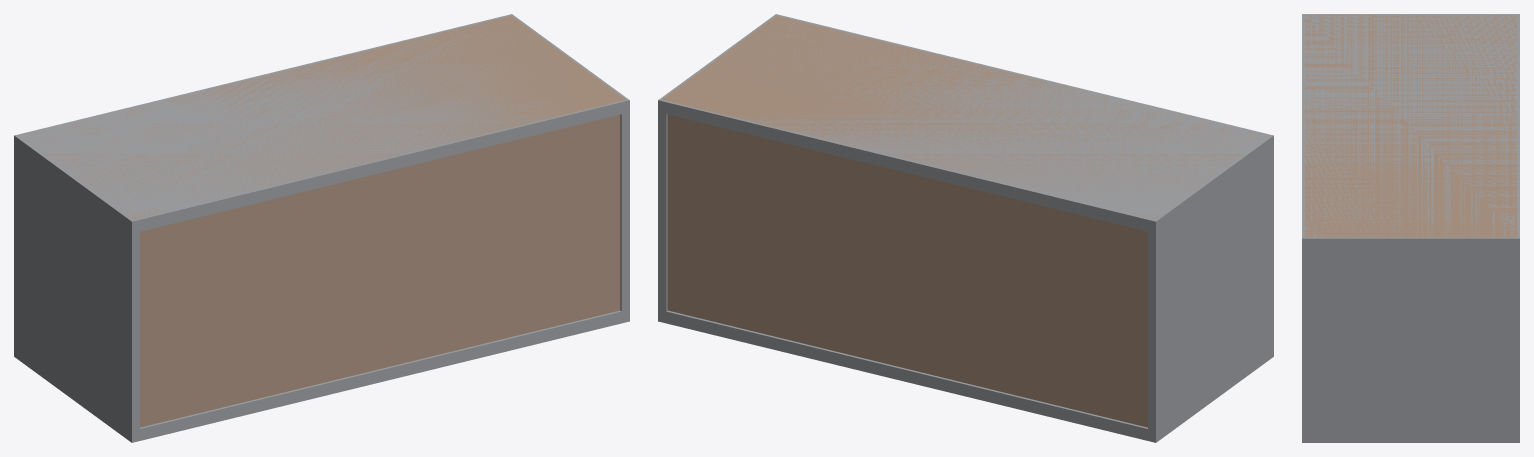
The model's file is container.glb.
The picture shows the model from 3 angles, left to right: view 1: azimuth 30°, elevation 25°; view 2: azimuth 150°, elevation 25°; view 3: azimuth 270°, elevation 25°; orthographic projection. The views are drawn at different scales.
Visible parts, largest first — view 1: props_container; view 2: props_container; view 3: props_container.
Boxes of the visible parts, x1,y1,x2,y2 form: props_container: (14, 14, 629, 442); props_container: (658, 14, 1273, 442); props_container: (1302, 14, 1519, 442).
Size of the model in its own units: 6.1 by 2.59 by 2.5.
